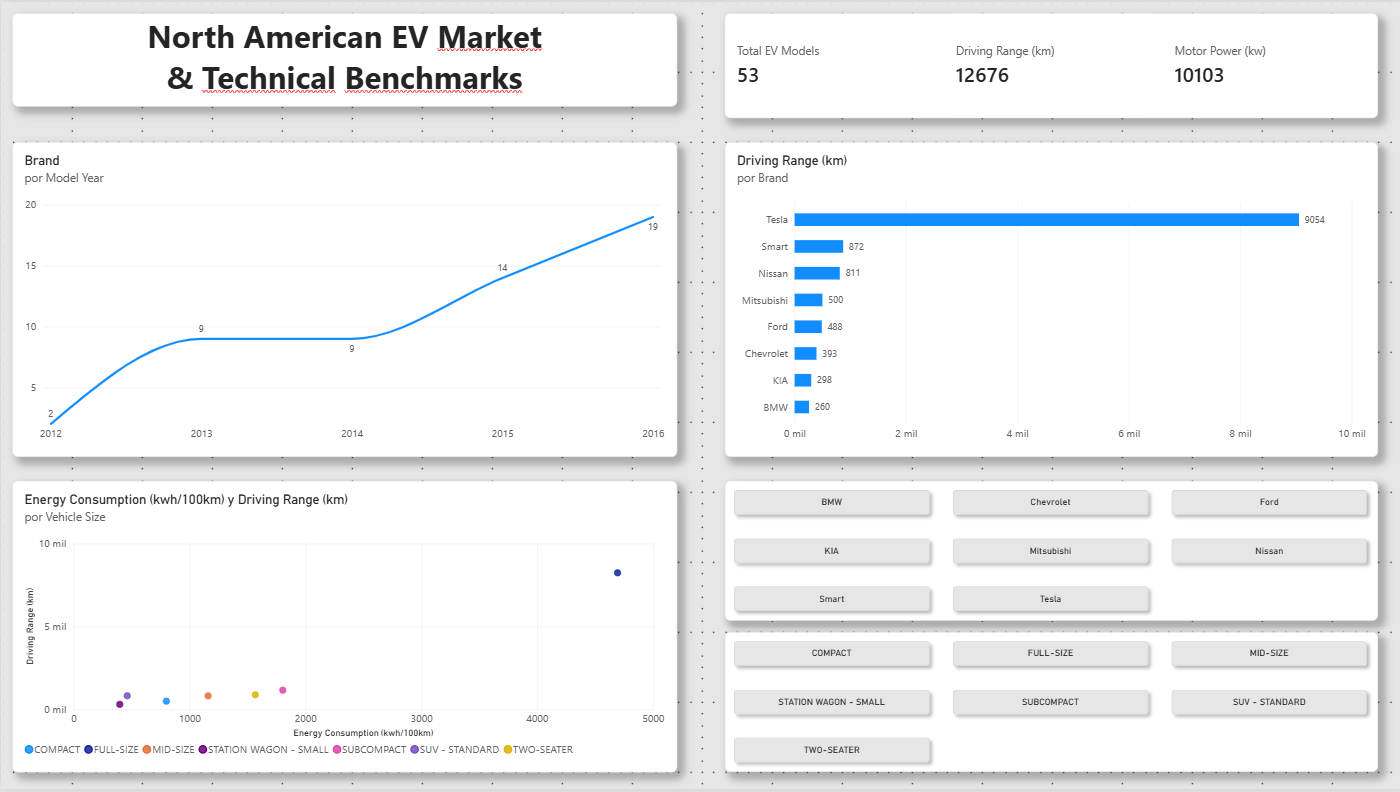

The page's visual inventory and layout, read from the dashboard file:
{"tool":"powerbi","page":{"name":"Página 1","canvas":[1920,1080],"ordinal":0},"visuals":[{"type":"textbox","box":[16,16,896,128],"z":0},{"type":"cardVisual","fields":{"Data":["CountNonNull(ev_catalog_clean.model)","Sum(ev_catalog_clean.range_km)","Sum(ev_catalog_clean.motor_power_kw)"]},"box":[1008,16,888,150],"z":1000},{"type":"lineChart","fields":{"Category":["ev_catalog_clean.model_year"],"Y":["CountNonNull(ev_catalog_clean.brand)"]},"box":[16,192,896,432],"z":2000},{"type":"barChart","fields":{"Category":["ev_catalog_clean.brand"],"Y":["Sum(ev_catalog_clean.range_km)"]},"box":[1008,192,880,432],"z":3000},{"type":"scatterChart","fields":{"Series":["ev_catalog_clean.vehicle_size"],"X":["Sum(ev_catalog_clean.comb_kwh_100km)"],"Y":["Sum(ev_catalog_clean.range_km)"]},"box":[16,656,896,400],"z":4000},{"type":"advancedSlicerVisual","fields":{"Values":["ev_catalog_clean.brand"]},"box":[1008,656,880,192],"z":4001},{"type":"advancedSlicerVisual","fields":{"Values":["ev_catalog_clean.vehicle_size"]},"box":[1008,864,880,192],"z":4002}]}

Visuals, with their boxes in screenshot pixels (x1, y1, x2, y2), scaled from the page's 1920x1080 canvas onto the 1400x792 screenshot:
textbox: bbox=(12, 12, 665, 106)
cardVisual - CountNonNull(ev_catalog_clean.model) x Sum(ev_catalog_clean.range_km): bbox=(735, 12, 1382, 122)
lineChart - ev_catalog_clean.model_year x CountNonNull(ev_catalog_clean.brand): bbox=(12, 141, 665, 458)
barChart - ev_catalog_clean.brand x Sum(ev_catalog_clean.range_km): bbox=(735, 141, 1377, 458)
scatterChart - ev_catalog_clean.vehicle_size x Sum(ev_catalog_clean.comb_kwh_100km): bbox=(12, 481, 665, 774)
advancedSlicerVisual - ev_catalog_clean.brand: bbox=(735, 481, 1377, 622)
advancedSlicerVisual - ev_catalog_clean.vehicle_size: bbox=(735, 634, 1377, 774)
